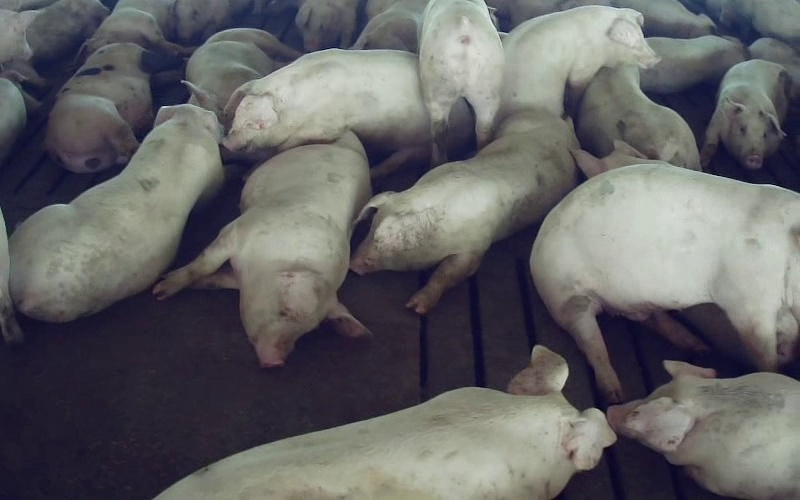pig: (156, 345, 615, 499), (153, 132, 370, 366), (350, 113, 577, 313), (608, 361, 799, 499), (223, 49, 429, 174), (498, 6, 657, 118), (44, 43, 152, 172), (576, 65, 700, 169), (183, 28, 300, 118), (700, 59, 790, 169), (640, 35, 745, 93)
